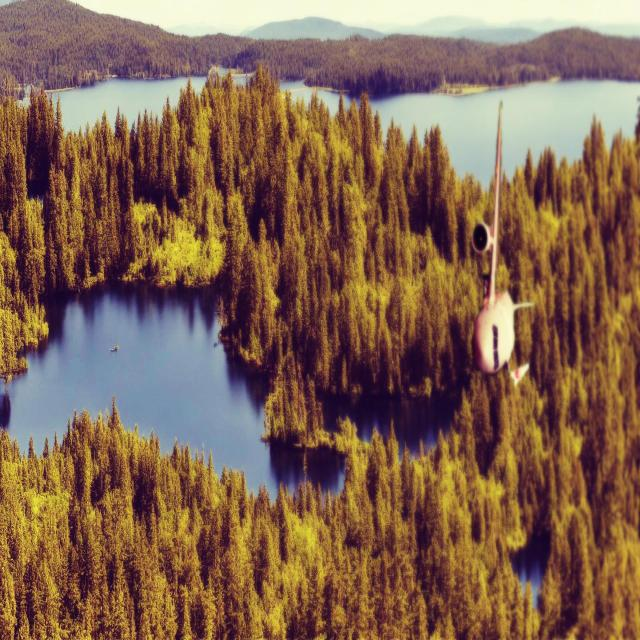airplane: (471, 99, 534, 378)
